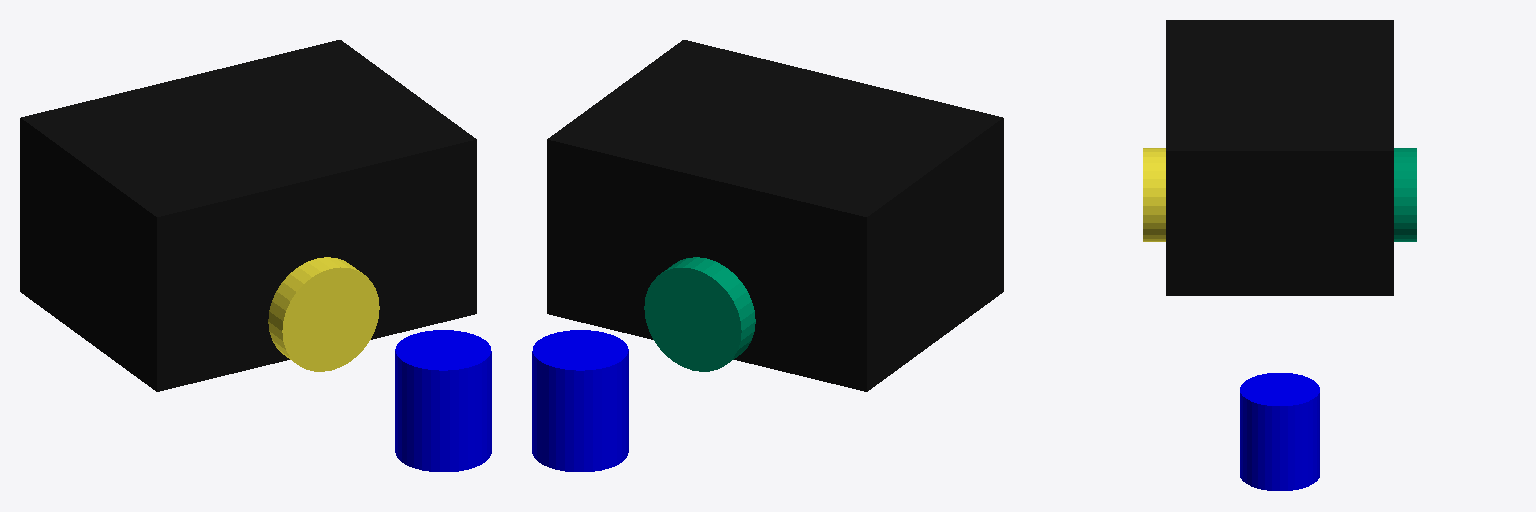
The robot description file, URDF, robot "bullet":
<?xml version="1.0"?>

<robot name="bullet">
  <property name="wheel_radius" value="0.035" />
  <property name="wheel_length" value="0.025" />
  <property name="base_x_origin_to_wheel_origin" value="0.25" />
  <property name="base_y_origin_to_wheel_origin" value="0.3" />
  <property name="base_z_origin_to_wheel_origin" value="0.0" />

  <link name="base_footprint"/>

  <joint name="footprint_joint" type="fixed" >
    <parent link="base_link"/>
    <child link="base_footprint" />
    <origin xyz="0 0 -0.06" rpy="0 0 0"/>
  </joint>

  <link name="base_link">
    <visual>
      <geometry>
        <box size=".23 .17 .12" />
      </geometry>
      <material name="box">
        <color rgba="0.1 0.1 0.1 1" />
      </material>
      <origin rpy="0 0 0" xyz="-0.0 0 0.06"/>
    </visual>
  </link>
  <link name="left_wheel">
    <visual>
      <geometry>
        <cylinder length="0.025" radius="0.035"/>
      </geometry>
      <origin rpy="1.57 0 0" xyz="0 .09 0"/>
    </visual>
  </link>

  <link name="right_wheel">
    <visual>
      <geometry>
        <cylinder length="0.025" radius="0.035"/>
      </geometry>
      <origin rpy="1.57 0 0" xyz="0 -.09 0"/>
    </visual>
  </link>

  <joint name="left_wheel_joint" type="fixed">
    <parent link="base_link"/>
    <child link="left_wheel"/>
    <origin xyz="0 0 0.03" rpy="0 0 0"/>
  </joint>

  <joint name="right_wheel_joint" type="fixed">
    <parent link="base_link"/>
    <child link="right_wheel"/>
    <origin xyz="0 0 0.03" rpy="0 0 0"/>
  </joint>

  <link name="scan_link">
    <visual>
      <geometry>
        <cylinder length="0.07" radius="0.03"/>
      </geometry>
      <material name="lidar">
        <color rgba="0 0.0 1 1" />
      </material>
      <origin xyz="0.14 0.0 -0.1" rpy="0 0 0"/>
    </visual>
  </link>

  <joint name="scan_joint" type="fixed">
    <parent link="scan_link"/>
    <child link="base_link"/>
  </joint>
</robot>

--- Render facts (derived) ---
3 views of the same robot in one strip: view 1: azimuth 30°, elevation 25°; view 2: azimuth 150°, elevation 25°; view 3: azimuth 270°, elevation 25° (orthographic).
Robot: bullet — 5 links, 4 joints (4 fixed); root link scan_link; default pose: all joints at 0.
Links seen in each view (by area): view 1: base_link, scan_link, right_wheel; view 2: base_link, scan_link, left_wheel; view 3: base_link, scan_link, left_wheel, right_wheel.
Boxes of the visible links, left/top/right/bottom form: base_link: left=20, top=40, right=476, bottom=391; scan_link: left=395, top=330, right=491, bottom=471; right_wheel: left=268, top=257, right=379, bottom=371; base_link: left=547, top=40, right=1003, bottom=391; scan_link: left=532, top=330, right=628, bottom=471; left_wheel: left=644, top=257, right=755, bottom=371; base_link: left=1166, top=20, right=1393, bottom=295; scan_link: left=1240, top=373, right=1319, bottom=490; left_wheel: left=1394, top=148, right=1416, bottom=241; right_wheel: left=1143, top=148, right=1165, bottom=241.
Bounding box of the posed robot: 0.285 × 0.2051 × 0.255 m (x, y, z).
Geometry: primitives only (box / cylinder / sphere), no mesh files.